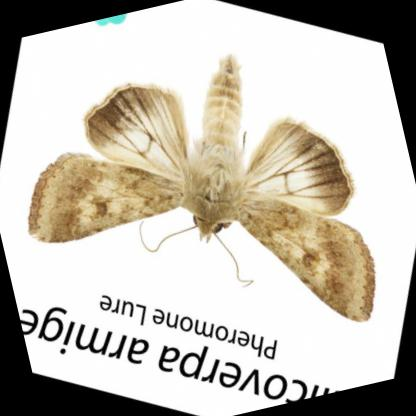helicoverpa: (28, 59, 377, 322)
